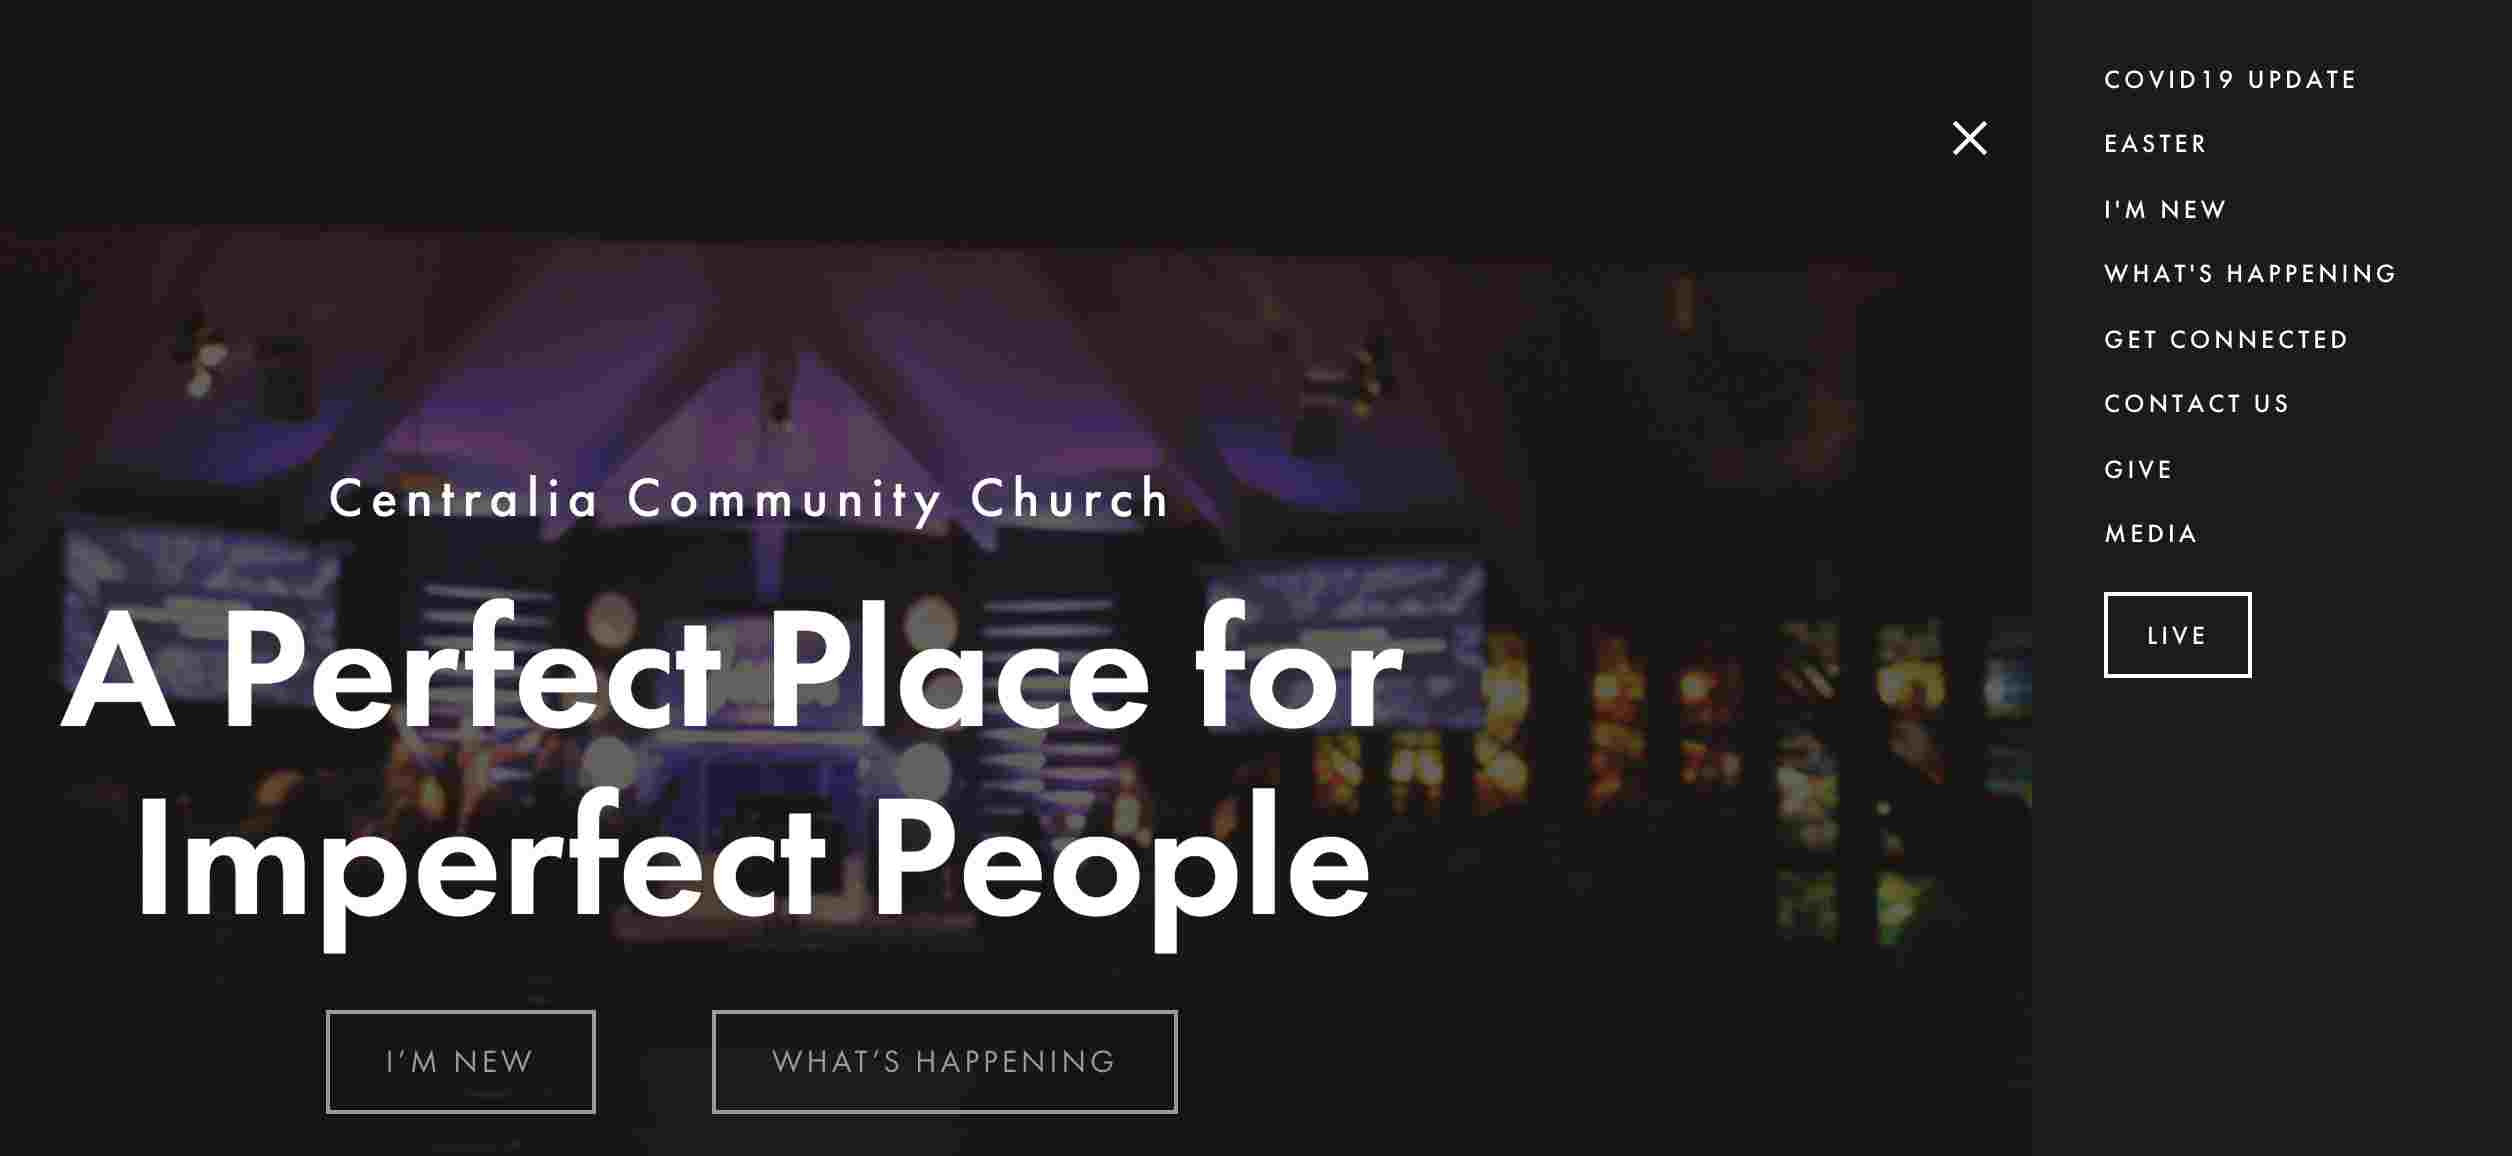Button: (715, 1004, 1186, 1119), (322, 1009, 598, 1113), (1919, 90, 2015, 178)
Side Bar: (2038, 0, 2512, 1156)
